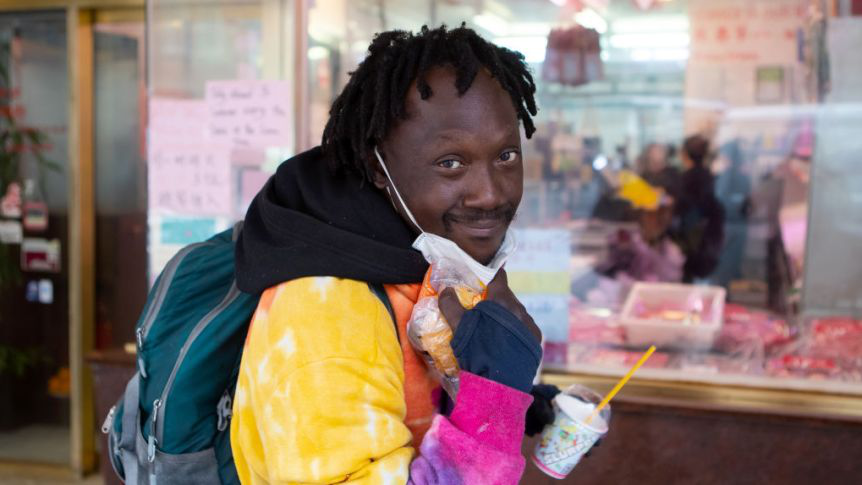mask_weared_incorrect: (365, 92, 529, 289)
